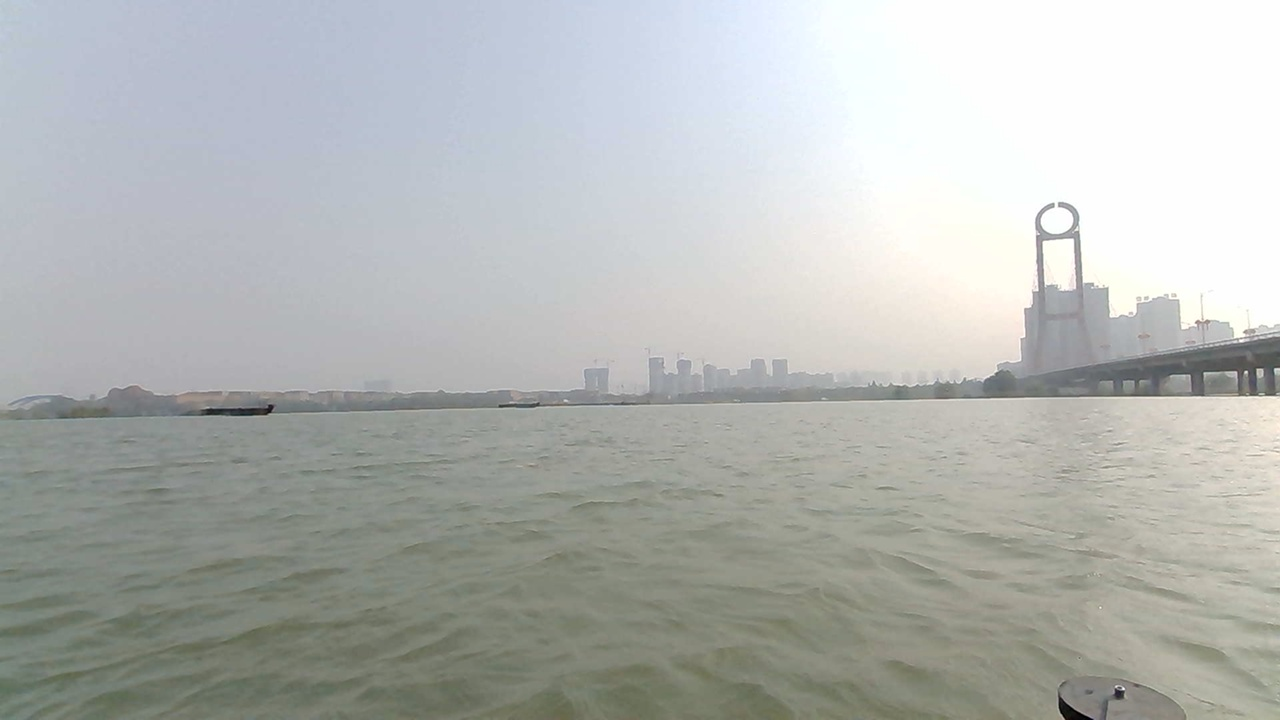bottle: (509, 458, 559, 476)
